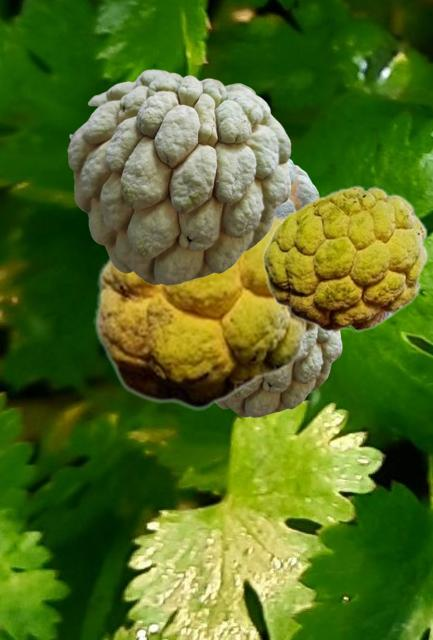atis: (67, 69, 290, 284), (93, 211, 318, 409), (261, 185, 427, 331), (217, 330, 341, 416), (276, 158, 318, 214)
